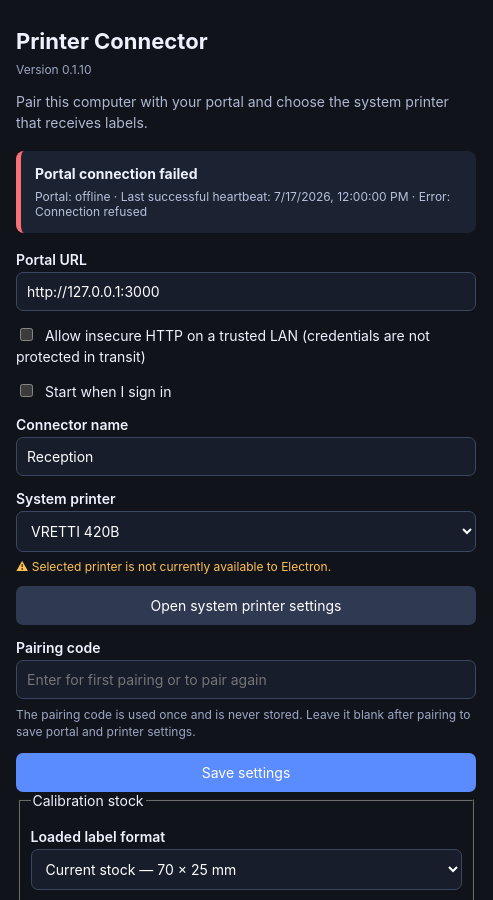
Test case: React settings renderer › shows an unavailable selected printer and bridge errors
This screenshot has width=493, height=900.
Expected: the text "⚠ Selected printer is not currently available to Electron." is shown, [16,559,331,574]
Expected: the text "Connection refused" is shown, [35,189,450,219]
Click the button "Save settings" at (246, 772), box [16,753,476,792]
(page scrolled)
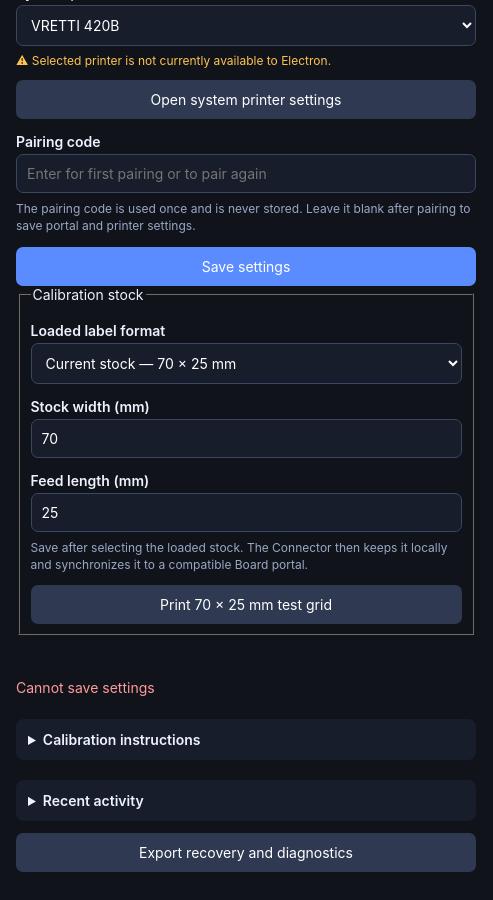
Expected: the message reads "Cannot save settings", [16,679,155,696]
